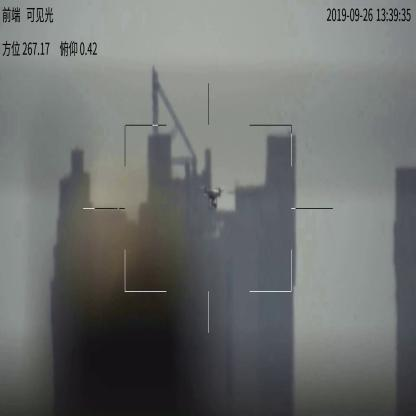uav: (200, 186, 223, 210)
